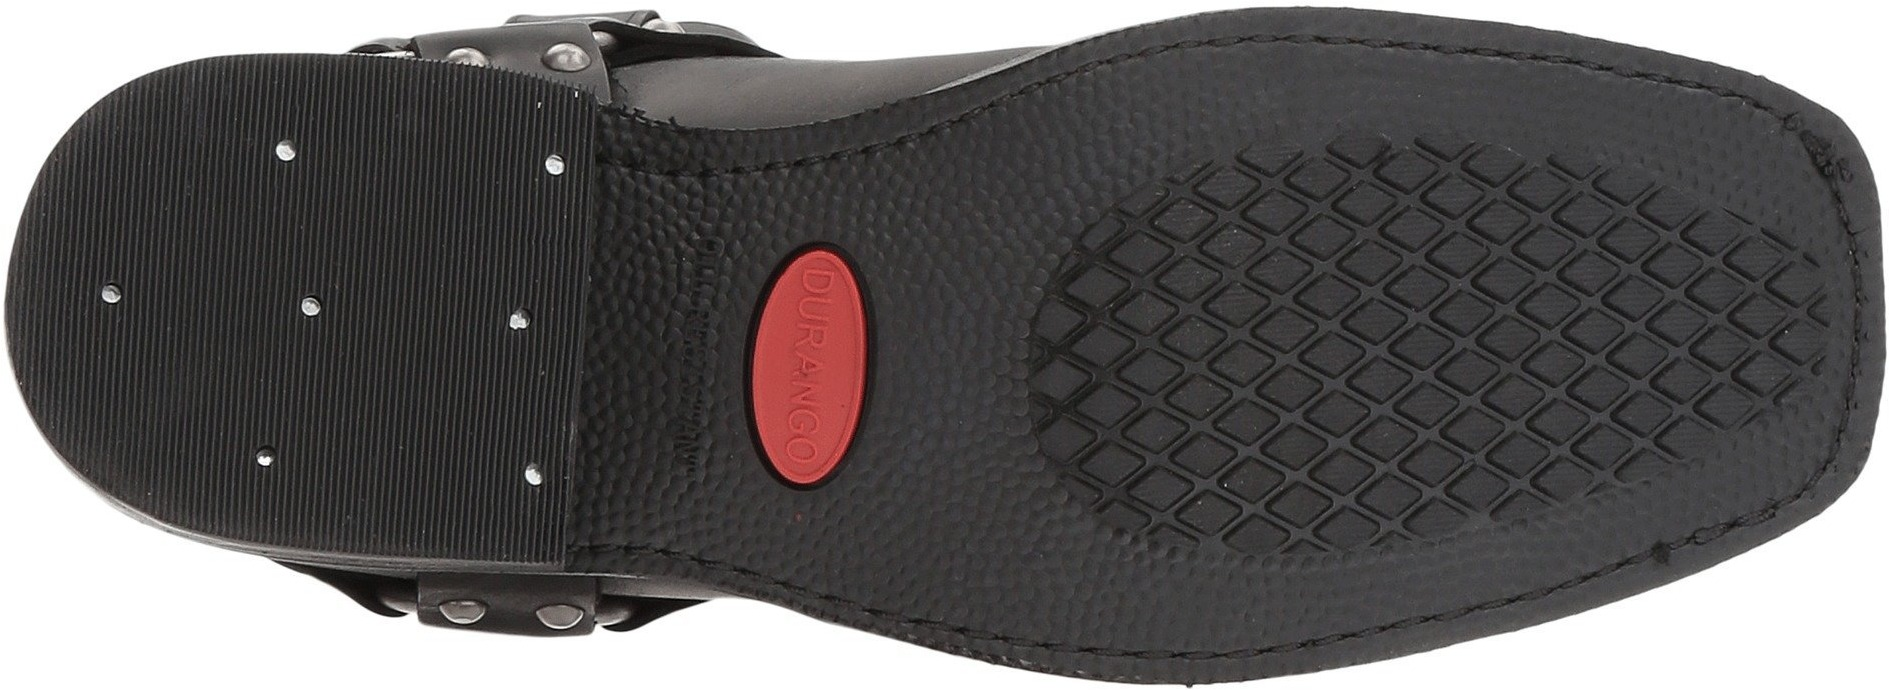other: (41, 188, 331, 436), (328, 129, 560, 348), (347, 361, 522, 521), (855, 466, 1016, 598), (899, 161, 1038, 287)
quad: (1307, 178, 1623, 488), (1058, 265, 1305, 511), (1637, 246, 1797, 406)
text: (771, 290, 865, 382), (779, 393, 838, 466)
